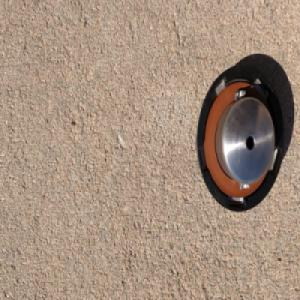FuelCap: (195, 63, 284, 216)
